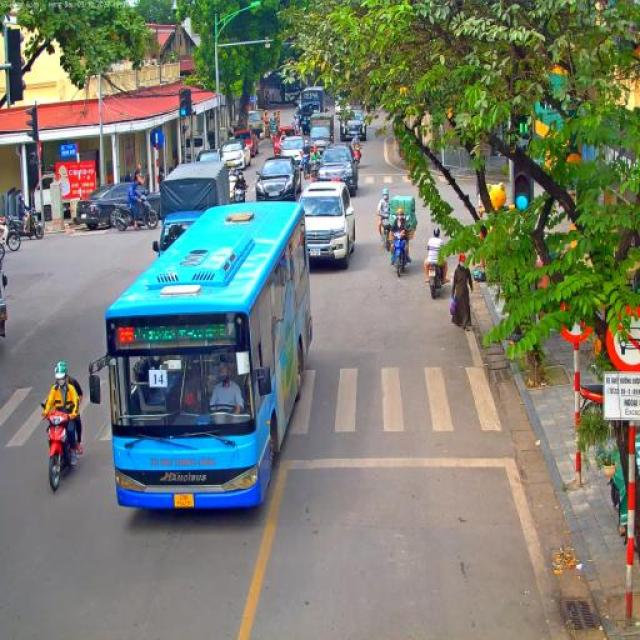bus: (90, 202, 314, 512), (280, 75, 301, 110), (264, 75, 282, 103)
car: (296, 180, 356, 270), (76, 182, 160, 229), (314, 142, 360, 198), (255, 156, 303, 202), (220, 140, 252, 172), (339, 109, 367, 142), (278, 136, 308, 166), (234, 130, 260, 160), (272, 125, 290, 156), (195, 148, 223, 162), (222, 136, 247, 148)
motorcycle: (41, 402, 77, 492), (107, 188, 159, 232), (390, 228, 410, 278), (16, 205, 44, 240), (424, 260, 444, 300), (0, 215, 21, 251), (380, 212, 392, 252), (232, 186, 248, 204), (298, 157, 311, 179), (352, 145, 363, 169), (228, 177, 237, 203), (308, 159, 321, 176), (268, 128, 277, 144), (293, 125, 302, 136)
truck: (153, 161, 231, 258), (298, 86, 326, 136), (309, 113, 341, 156), (246, 110, 264, 140)
